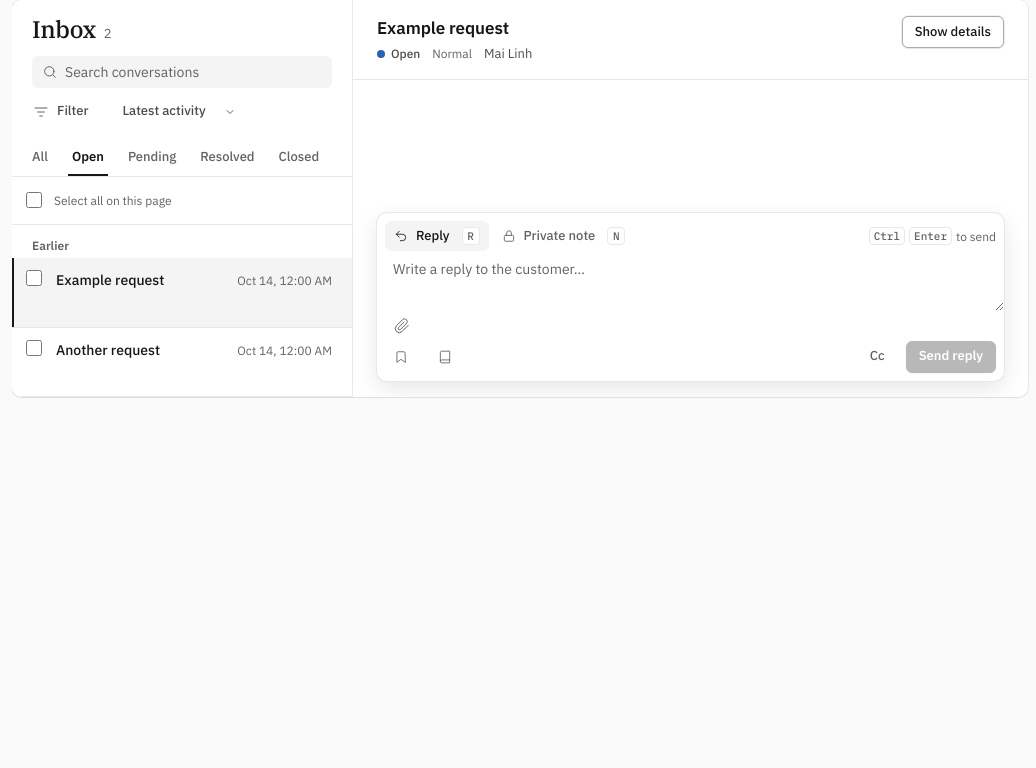
Scenario: the details drawer closes when another conversation is selected
Click the button "Show details": [953, 32] box [902,16,1004,48]
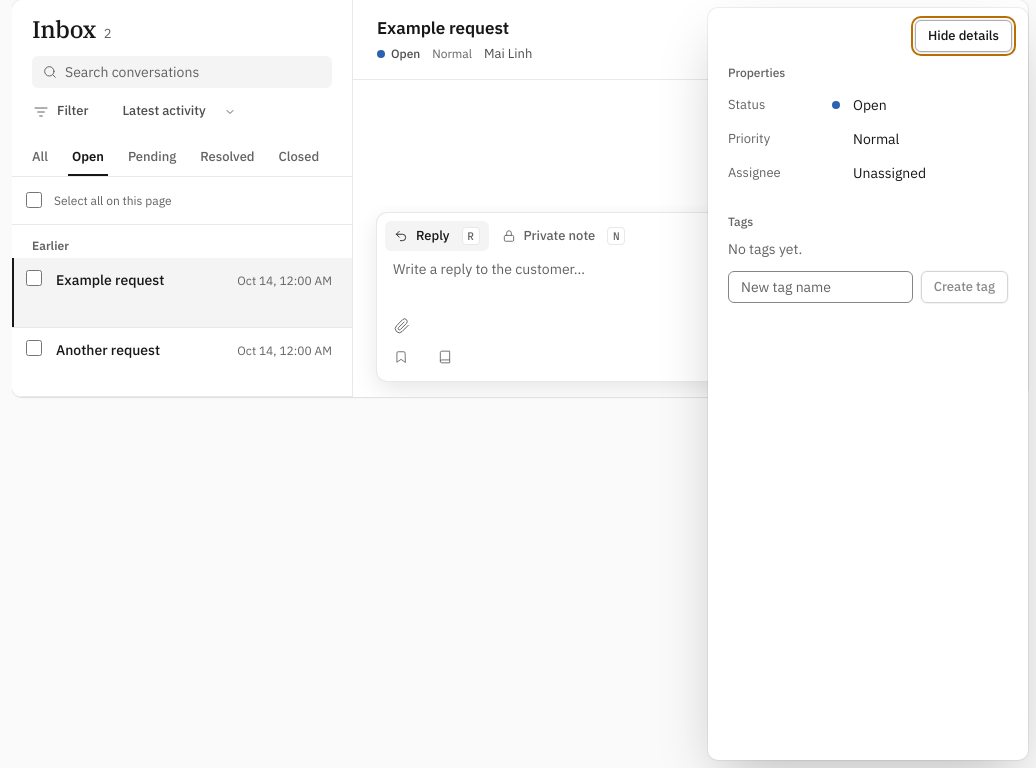
expect the button "Hide details" is shown: met, box [915,20,1012,52]
